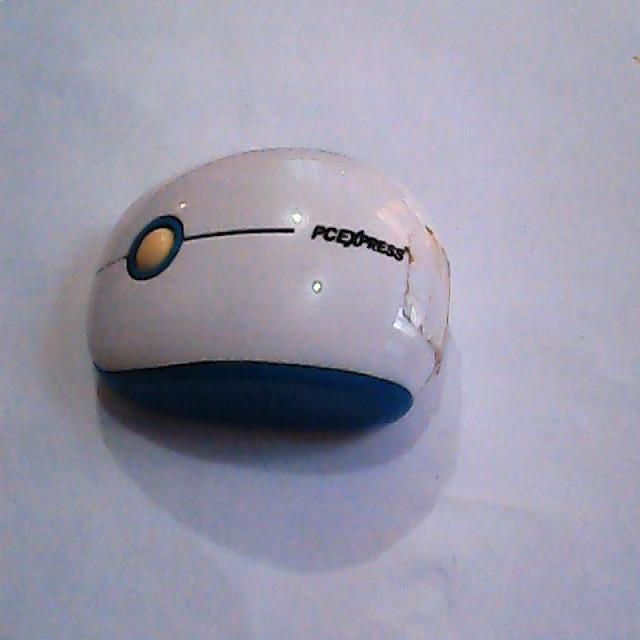Mouse: (83, 142, 455, 436)
